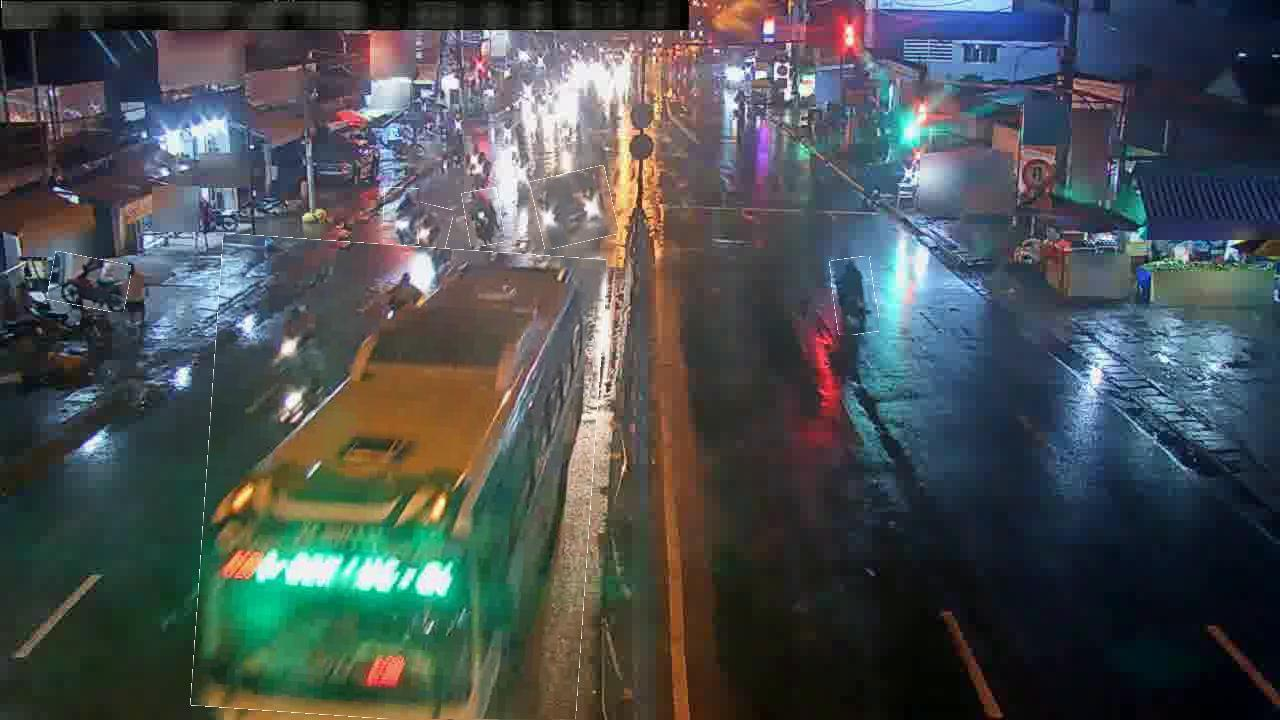14: (198, 239, 600, 719)
container: (534, 169, 616, 247)
motorbike: (49, 255, 131, 310), (832, 257, 878, 335), (256, 321, 310, 383), (404, 203, 451, 272), (268, 384, 314, 452), (365, 264, 411, 330), (464, 189, 503, 246), (384, 188, 420, 245)
